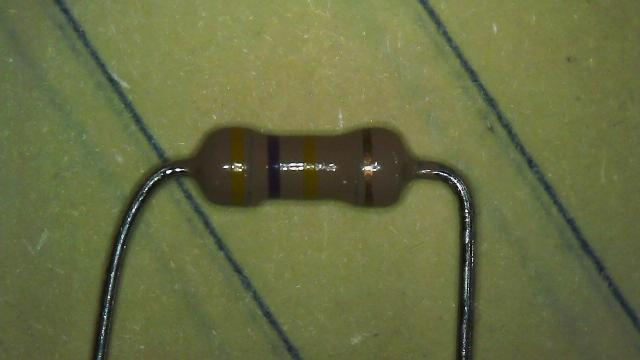gold: (362, 129, 376, 205)
resistor: (180, 106, 423, 231)
violet: (267, 136, 282, 198)
yellow: (228, 128, 246, 205), (302, 135, 319, 198)
